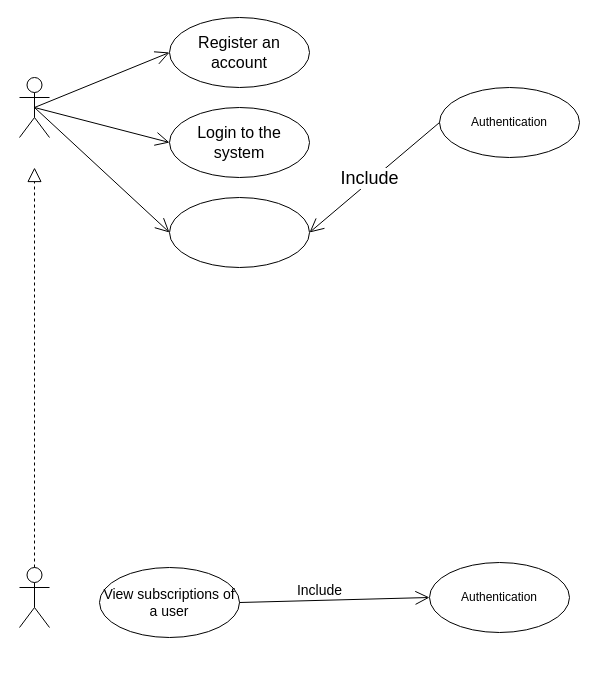
Image size: 597x681. Some labels were removed from this diagram. Here are the shapes that lost their labels. From the top down, the box of each, then its label:
(18, 76, 50, 138): User
(168, 196, 310, 268): crud de subscription
(18, 566, 50, 628): Admin
